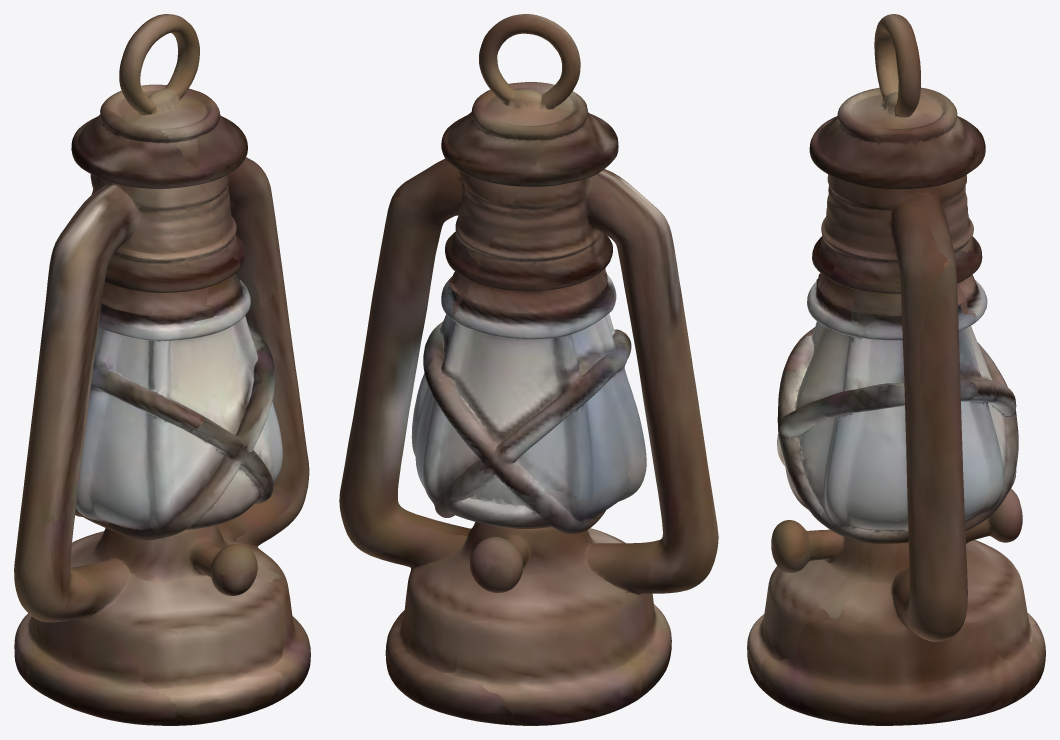
Rendered from den-bao.glb.
3 views of the same model, side by side, from view 1: azimuth 30°, elevation 25°; view 2: azimuth 150°, elevation 25°; view 3: azimuth 270°, elevation 25° (orthographic).
Bounding box in the file's own units: 0.0791 × 0.1494 × 0.0621.
1 material, 1 textured.
